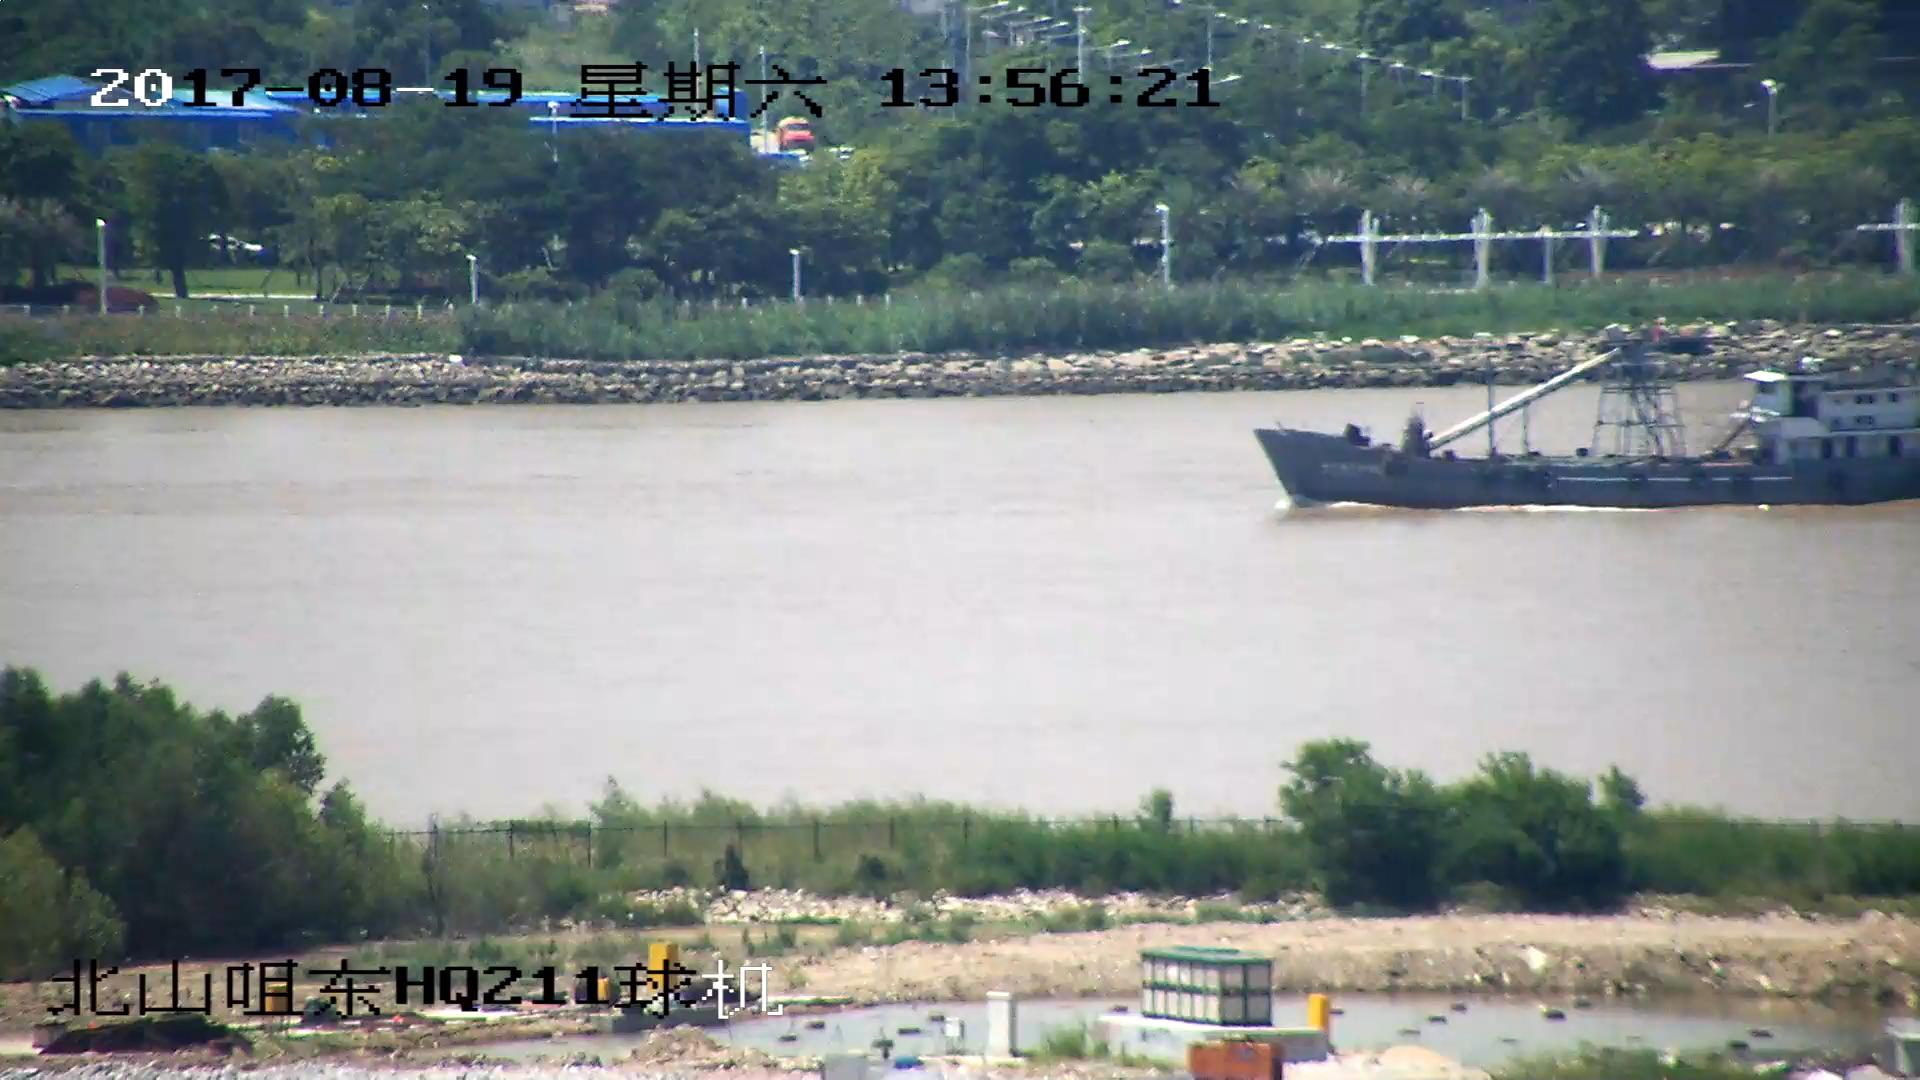fishing boat: (1254, 327, 1920, 506)
